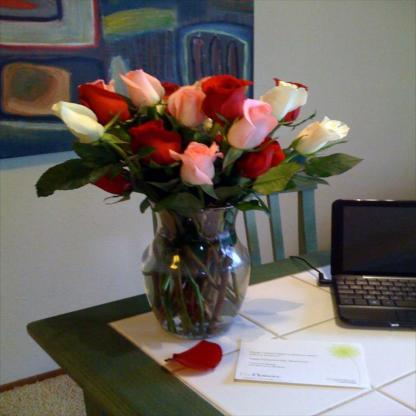board: (331, 198, 416, 327)
